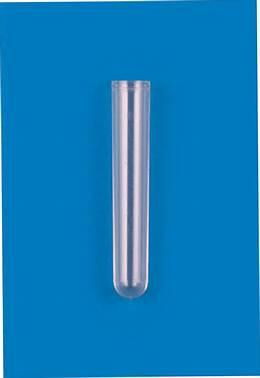Test tube: (106, 51, 172, 306)
